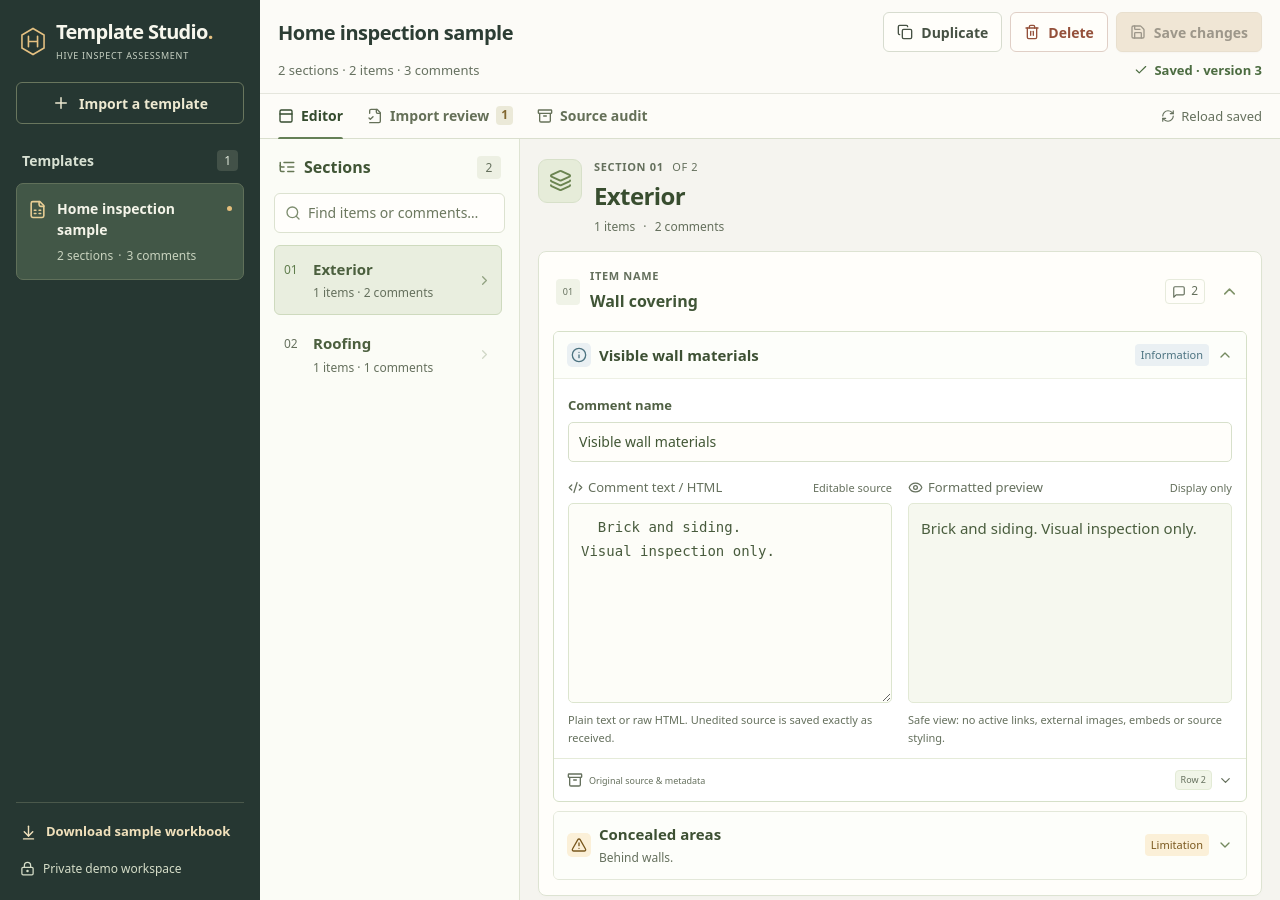
Scenario: end-to-end client state with unit-test API mocks › searches across comment text and sensibly opens a matching section without modifying source
Expected: the field named "Template name" holds "Home inspection sample", [273, 14, 862, 50]
Type "shingles" into the search field named "Search items and comments" at [401, 213], box [308, 198, 494, 228]
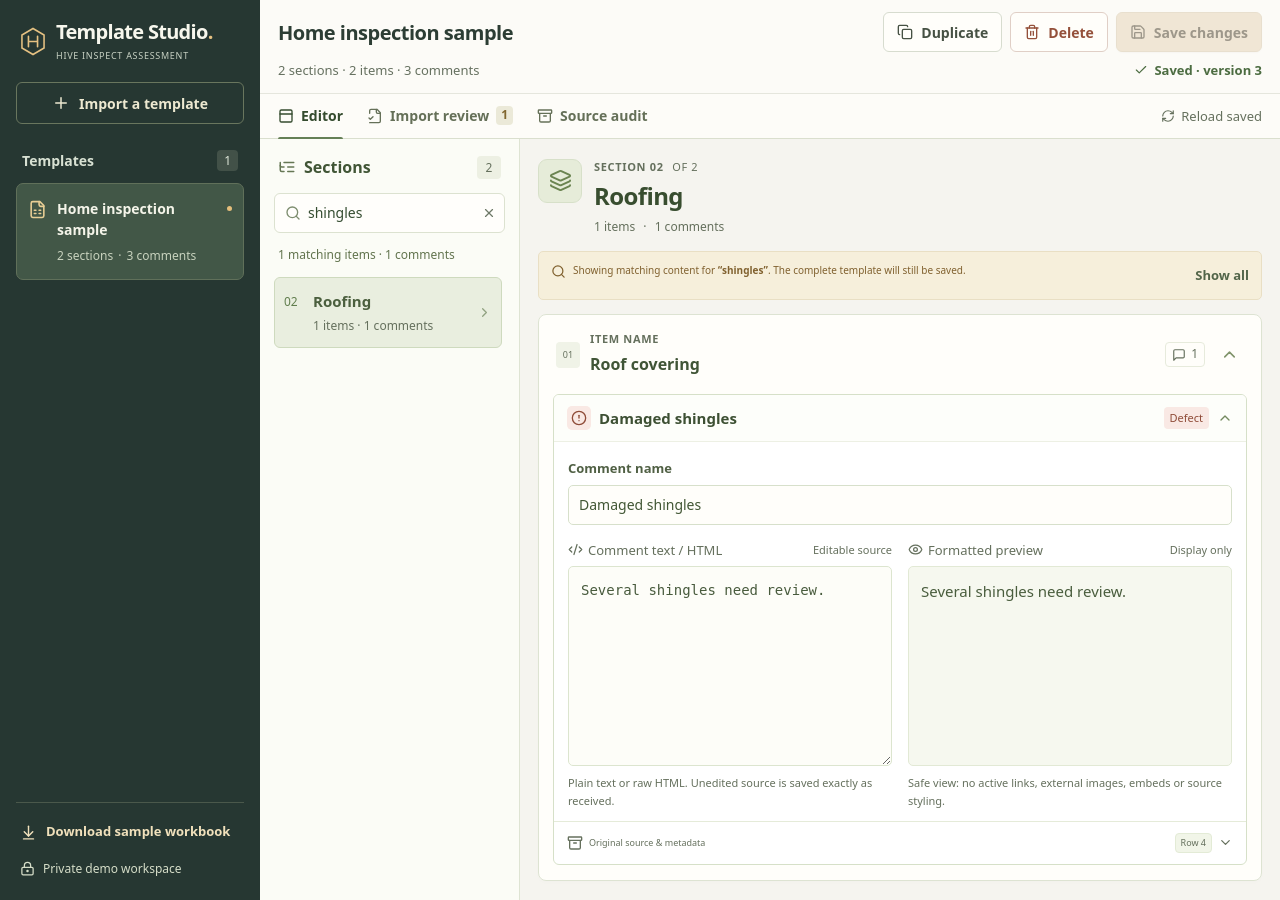
Expected: the field named "Section name" holds "Roofing", [589, 178, 1261, 214]
Expected: the text "1 matching items · 1 comments" is shown, [278, 246, 455, 263]
Expected: the text box labelled "Comment text / HTML" holds "Several shingles need review.", [568, 566, 892, 766]
